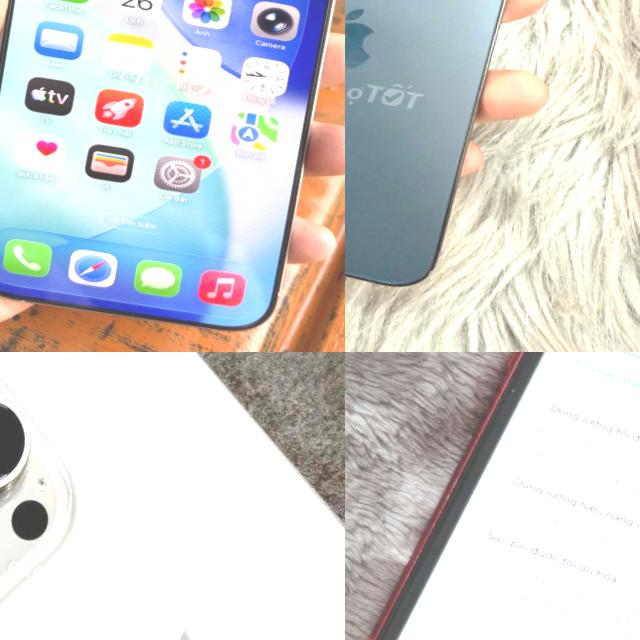gen_11: (348, 352, 640, 640)
gen_12_13: (345, 0, 551, 318)
gen_16: (0, 0, 345, 343), (0, 352, 345, 640)
